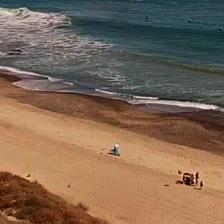surfer: (218, 28, 222, 31), (188, 21, 194, 23), (146, 16, 148, 19), (67, 0, 70, 2)
